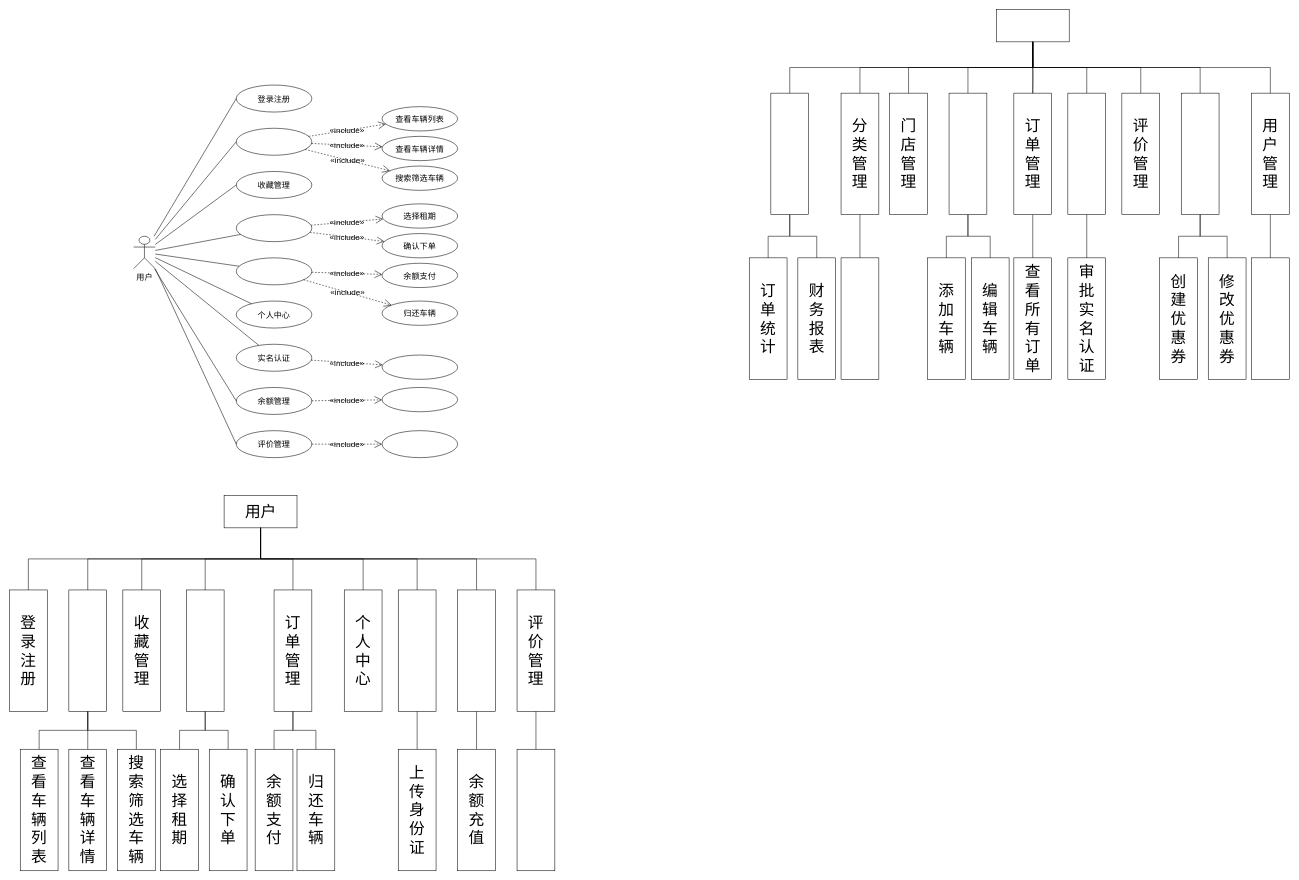
This 1299x880 diagram has some shape labels left out. Here are the shapes that lost their labels. From the top down, the centre of each, then its label:
At [1032,25]: "管理员".
At [274,141]: "浏览车辆".
At [789,154]: "数 据 统 计".
At [968,154]: "车 辆 管 理".
At [1086,154]: "实 名 审 核".
At [1200,154]: "优 惠 券 管 理".
At [274,228]: "租车下单".
At [274,271]: "订单管理".
At [860,318]: "添 加 分 类".
At [1270,318]: "启 用 禁 用 用 户".
At [420,367]: "上传身份证".
At [420,399]: "余额充值".
At [420,444]: "我的评价".
At [87,650]: "浏 览 车 辆".
At [205,650]: "租 车 下 单".
At [417,650]: "实 名 认 证".
At [476,650]: "余 额 管 理".
At [536,810]: "我 的 评 价".
